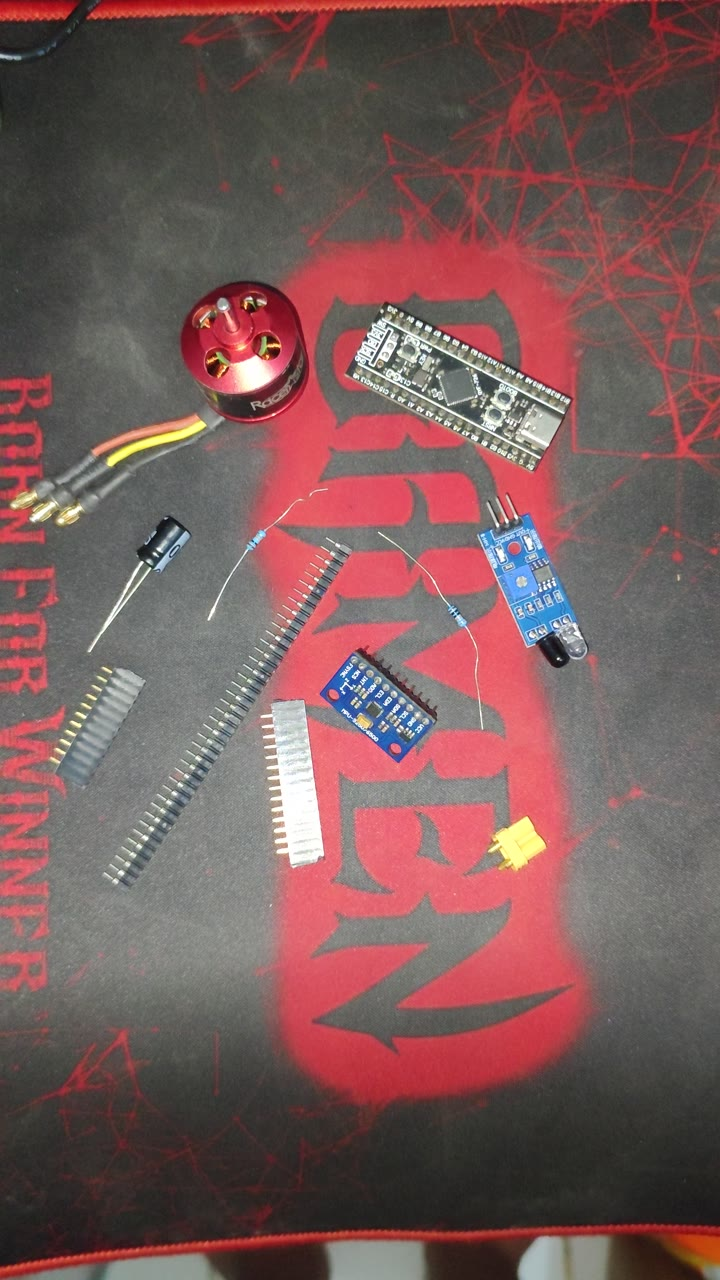bldc_motor: (81, 271, 317, 473)
elco_capacitor: (126, 512, 178, 592)
ir_sensor: (449, 506, 587, 674)
mpu6500: (312, 609, 470, 761)
pin_header: (104, 721, 249, 860), (257, 692, 325, 858), (55, 644, 108, 790)
resistor: (208, 497, 303, 580), (404, 560, 475, 649)
stm32f4: (354, 299, 579, 459)
xt30_female: (485, 815, 548, 867)
